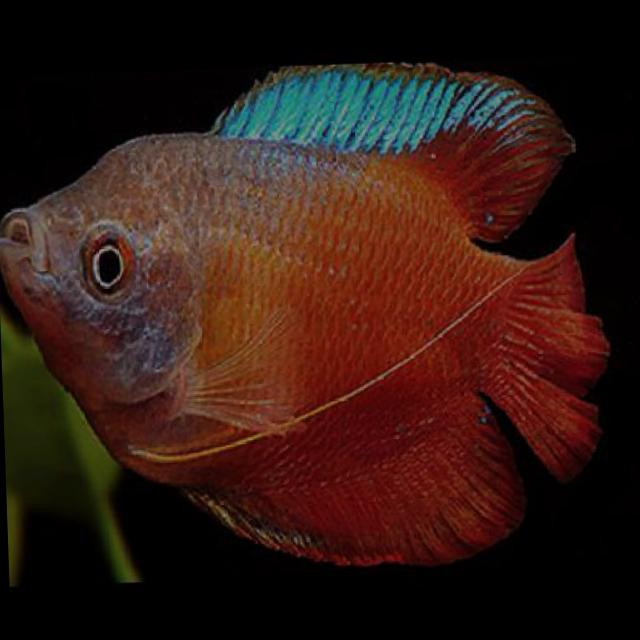Gourami: (0, 52, 616, 585)
